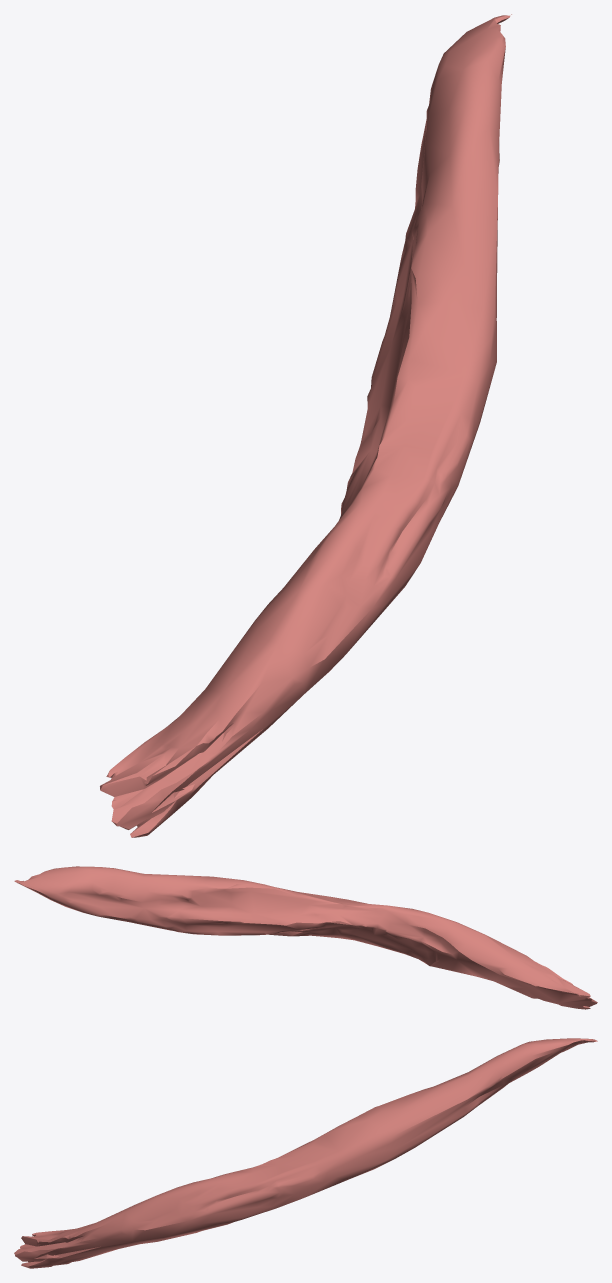
Rendered from fma13411_fj1460m.glb.
3 renders of one model, top to bottom at view 1: azimuth 30°, elevation 25°; view 2: azimuth 150°, elevation 25°; view 3: azimuth 330°, elevation 25°, orthographic. The views are drawn at different scales.
Parts seen in each view (by area): view 1: FMA13411_FJ1460M; view 2: FMA13411_FJ1460M; view 3: FMA13411_FJ1460M.
Boxes of the visible parts, box(x1,y1,x2,y2) form: FMA13411_FJ1460M: box(100, 14, 511, 837); FMA13411_FJ1460M: box(14, 866, 597, 1009); FMA13411_FJ1460M: box(14, 1038, 597, 1268).
Bounding box in the file's own units: 0.0704 × 0.0315 × 0.0608.
